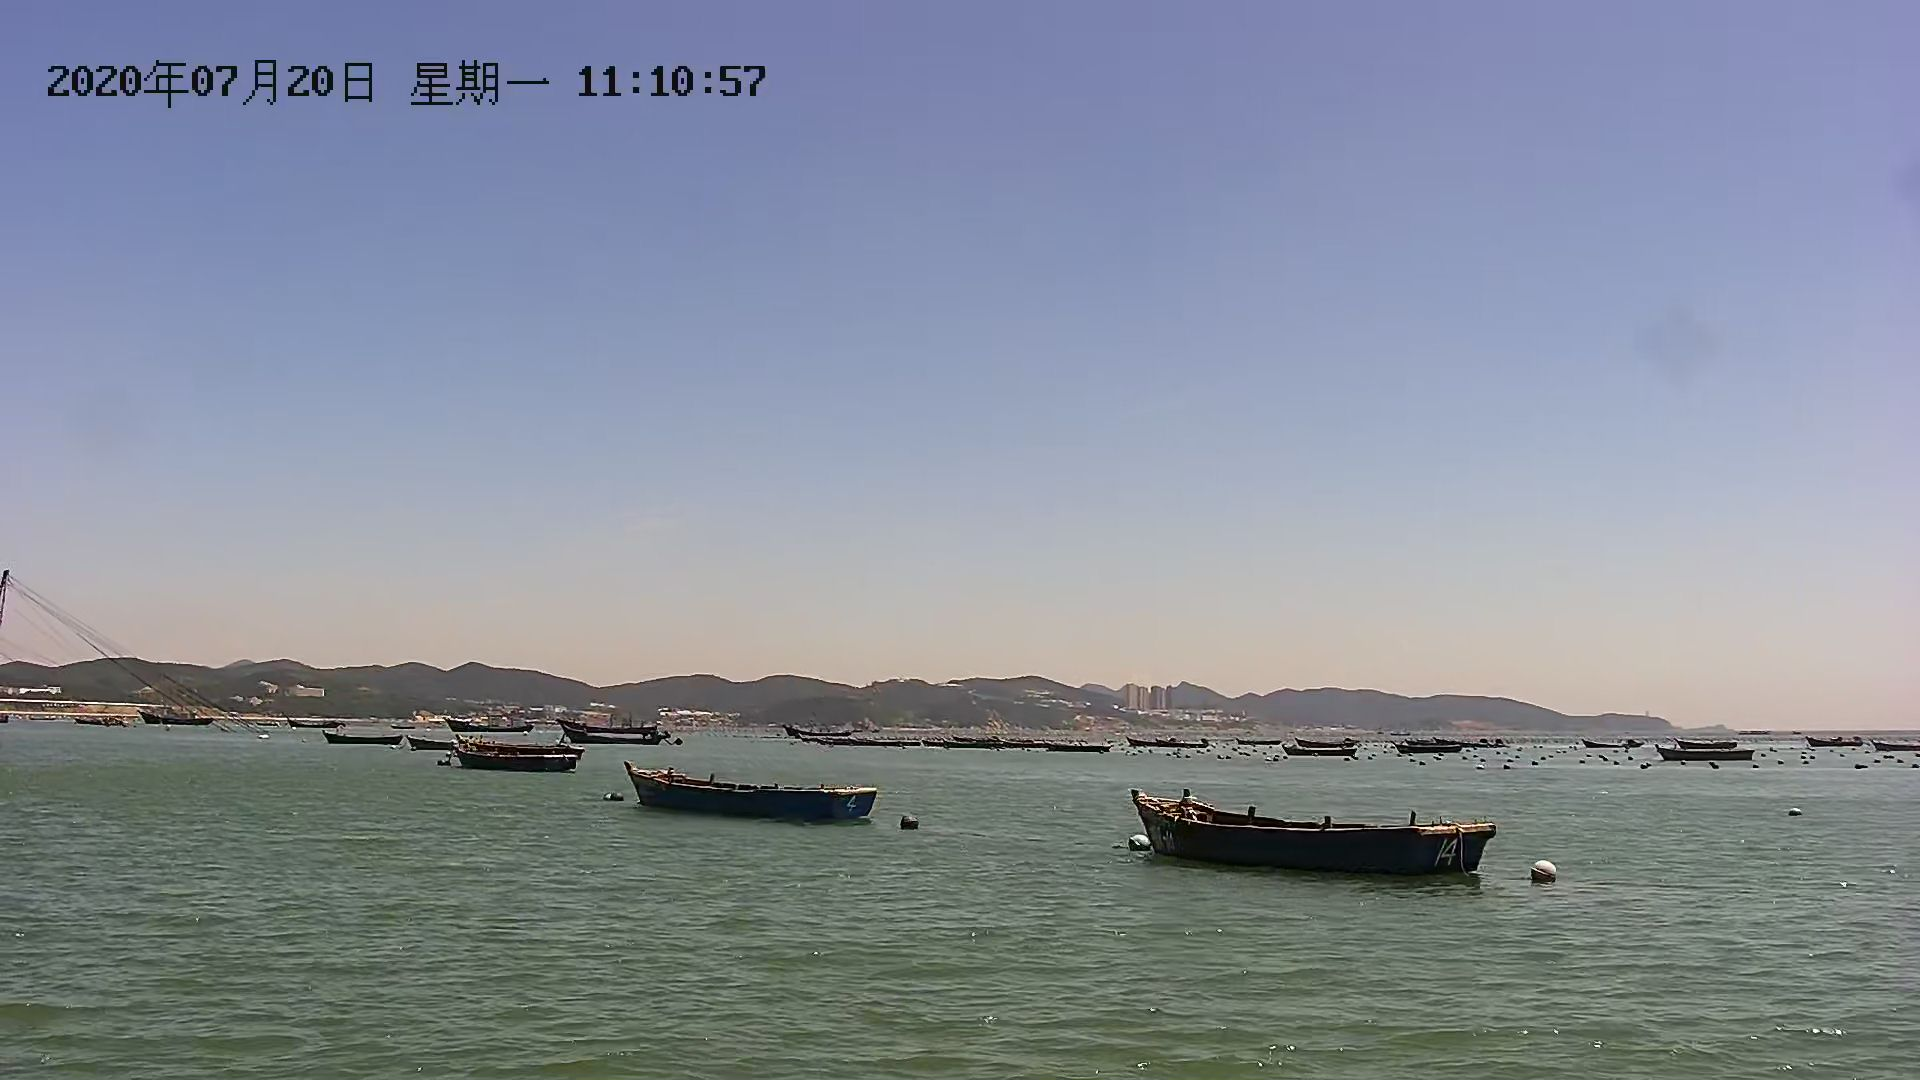ball: (1524, 857, 1557, 886), (897, 812, 920, 831)
boat: (1120, 781, 1506, 882), (621, 753, 885, 818), (460, 736, 585, 778), (1644, 735, 1766, 771), (551, 721, 666, 749), (328, 735, 415, 749)
